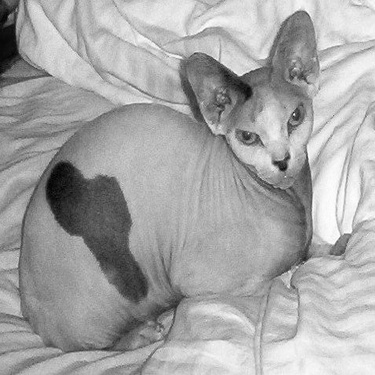cat: (13, 8, 322, 355)
